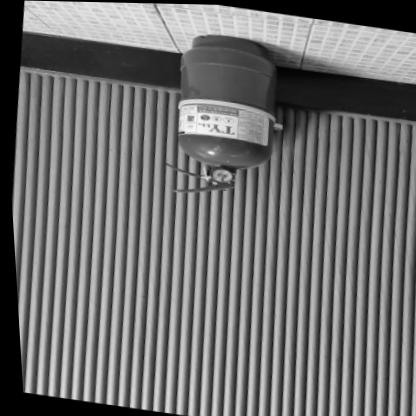FE: (154, 27, 283, 204)
